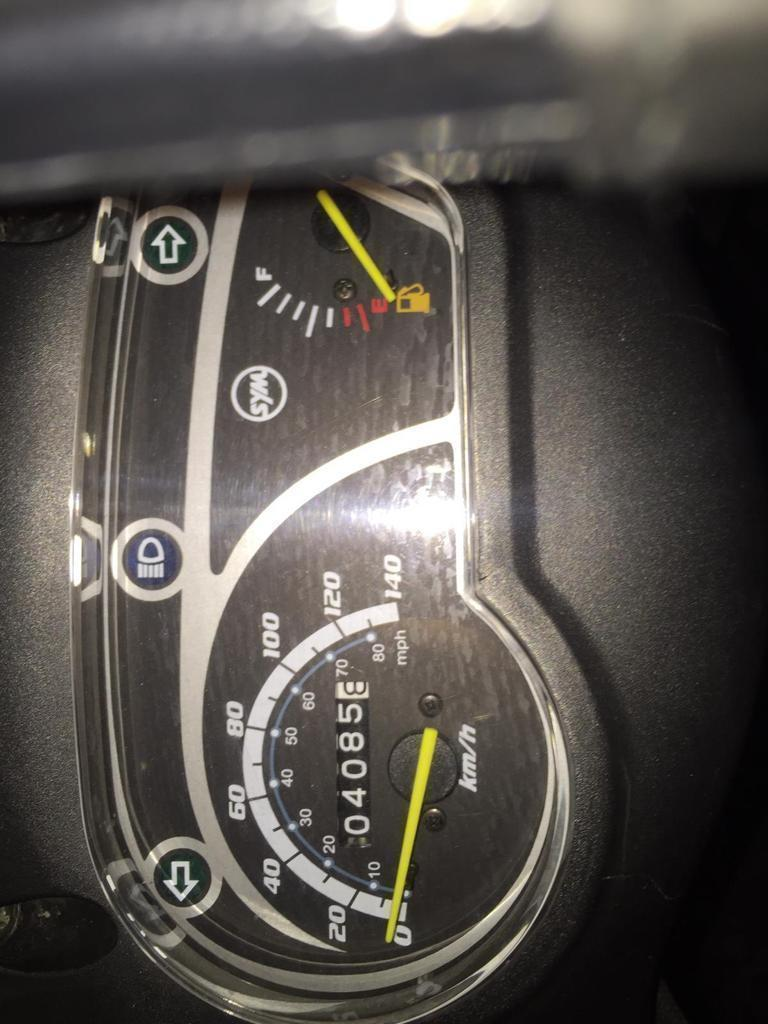0: (340, 758, 367, 779), (343, 814, 370, 835)
4: (341, 787, 367, 807)
5: (337, 703, 363, 723)
8: (338, 731, 365, 752), (344, 679, 366, 694)
odometer: (331, 678, 374, 850)
